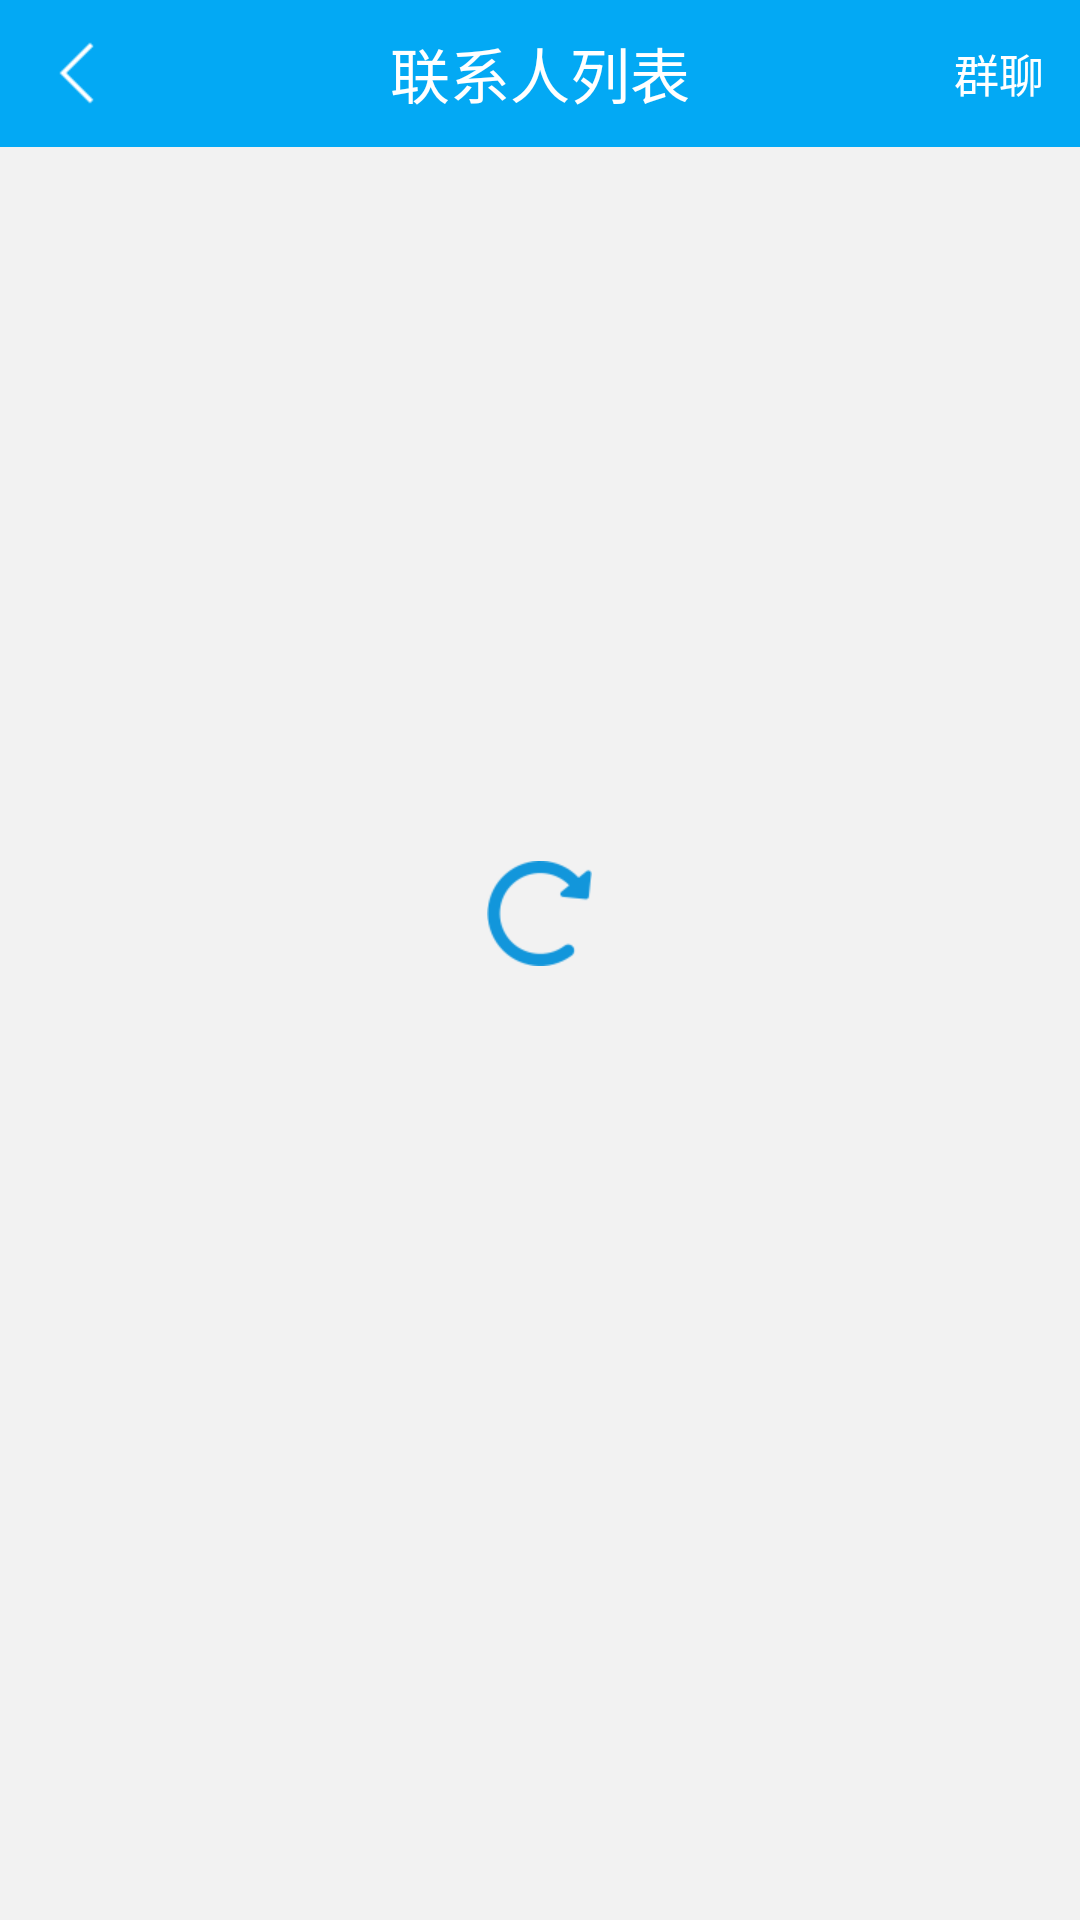

Screen size 1080 x 1920. Icon name, then its box in pixels as [left=x1, top=y1, right=x2, bottom=y2]:
back: [left=59, top=43, right=94, bottom=103]
